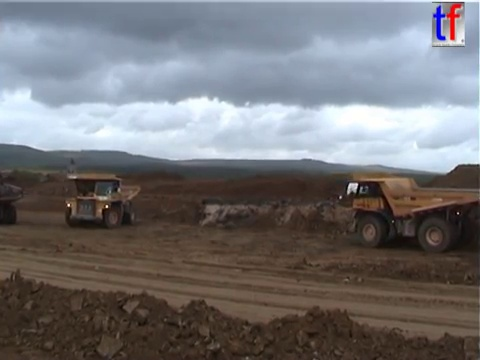truck: (336, 169, 480, 254), (63, 171, 141, 229), (1, 179, 24, 226)
